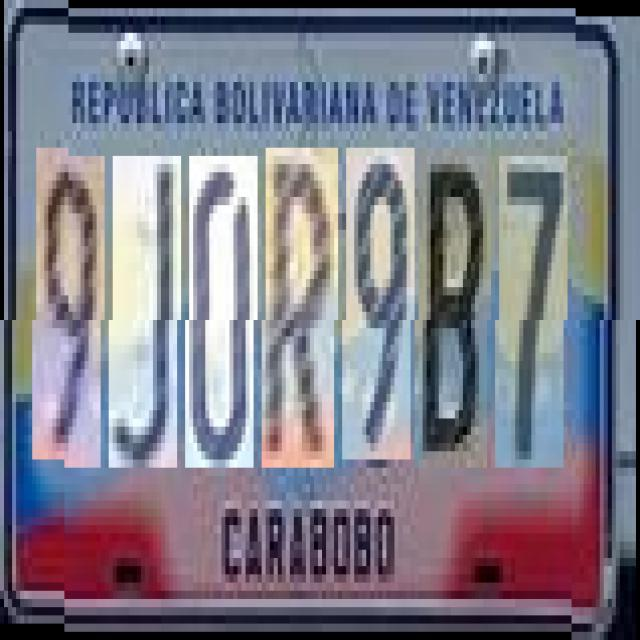0: (189, 156, 258, 468)
7: (500, 156, 568, 468)
9: (36, 156, 105, 468), (346, 148, 414, 460)
B: (418, 148, 492, 468)
J: (112, 156, 182, 468)
R: (266, 148, 338, 468)
